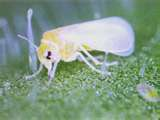whitefly: (19, 17, 135, 83)
